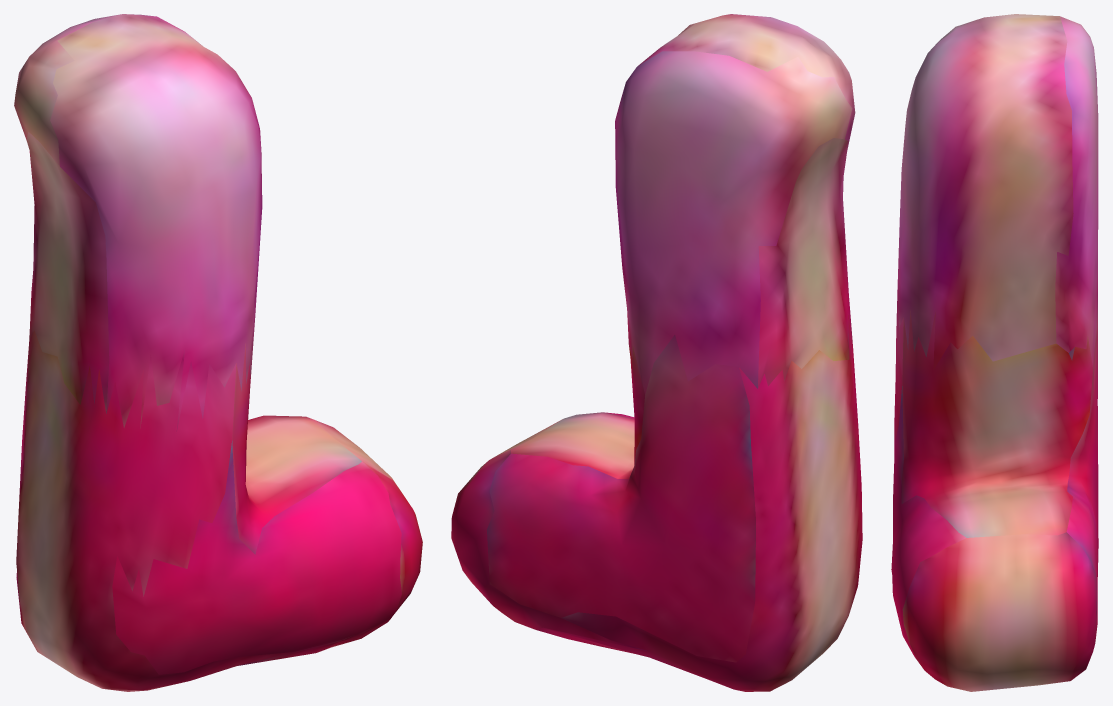
3 views of the same model, side by side, from view 1: azimuth 30°, elevation 25°; view 2: azimuth 150°, elevation 25°; view 3: azimuth 270°, elevation 25° (orthographic). The views are drawn at different scales.
Parts seen in each view (by area): view 1: Candy-Letter-L; view 2: Candy-Letter-L; view 3: Candy-Letter-L.
Part boxes in pixels (left/top/right/bottom): Candy-Letter-L: left=14, top=14, right=422, bottom=691; Candy-Letter-L: left=451, top=14, right=862, bottom=691; Candy-Letter-L: left=891, top=14, right=1098, bottom=691.
Bounding box in the file's own units: 0.2075 × 0.3508 × 0.1137.
1 material, 1 textured.
